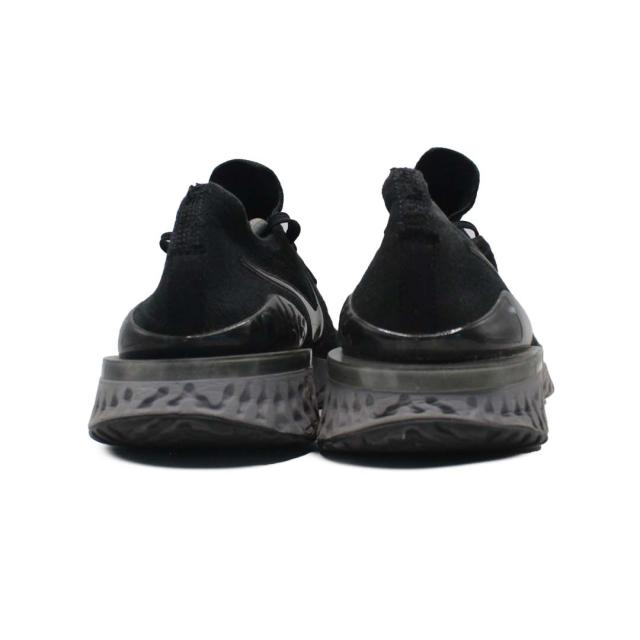heel: (100, 145, 316, 353), (344, 150, 520, 362)
midsole: (94, 354, 554, 460)
